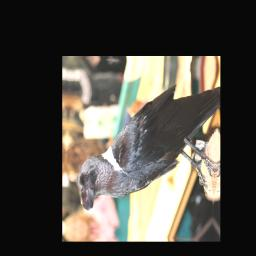Crow: (74, 73, 219, 225)
